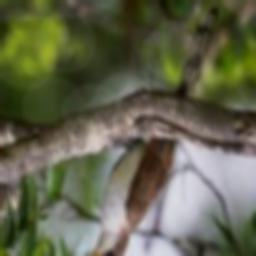Cuckoo: (79, 6, 218, 256)
